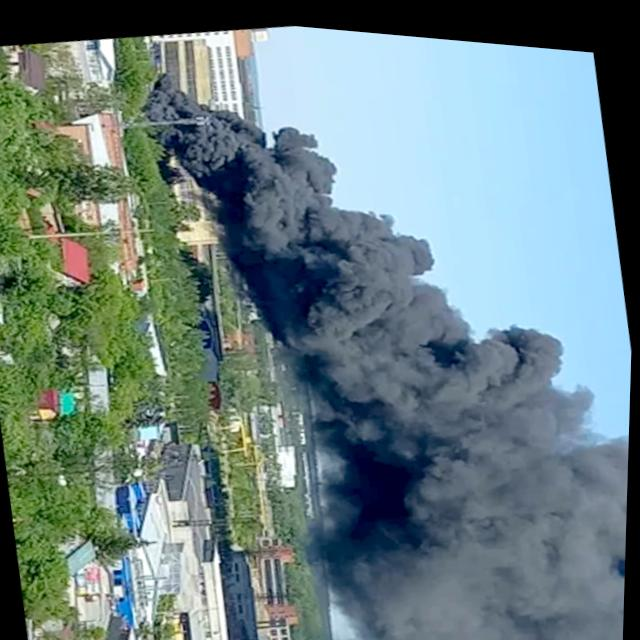Smoke: (136, 11, 640, 640)
